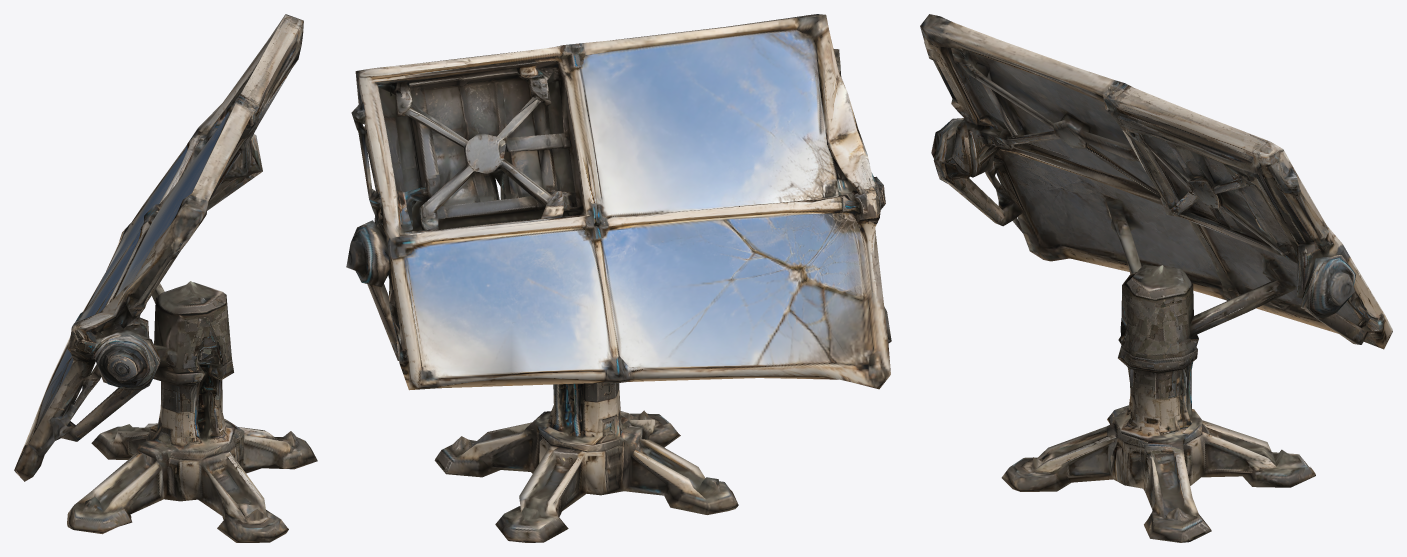
File: solar-mirror-broken.glb
3 renders of one model, left to right at view 1: azimuth 30°, elevation 25°; view 2: azimuth 150°, elevation 25°; view 3: azimuth 270°, elevation 25°, orthographic. The views are drawn at different scales.
Parts seen in each view (by area): view 1: solar-mirror-broken; view 2: solar-mirror-broken; view 3: solar-mirror-broken.
Part boxes in pixels (x1,y1,x2,y2): solar-mirror-broken: [14, 14, 317, 542]; solar-mirror-broken: [346, 14, 891, 542]; solar-mirror-broken: [920, 14, 1392, 542].
Size of the model in its own units: 6 by 5.7 by 5.96.
Materials: 1 (1 with a texture image).
